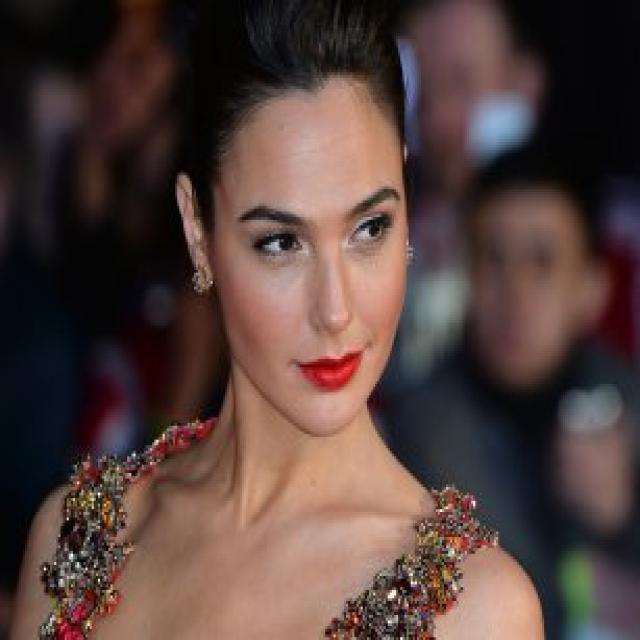human: (18, 14, 554, 640)
